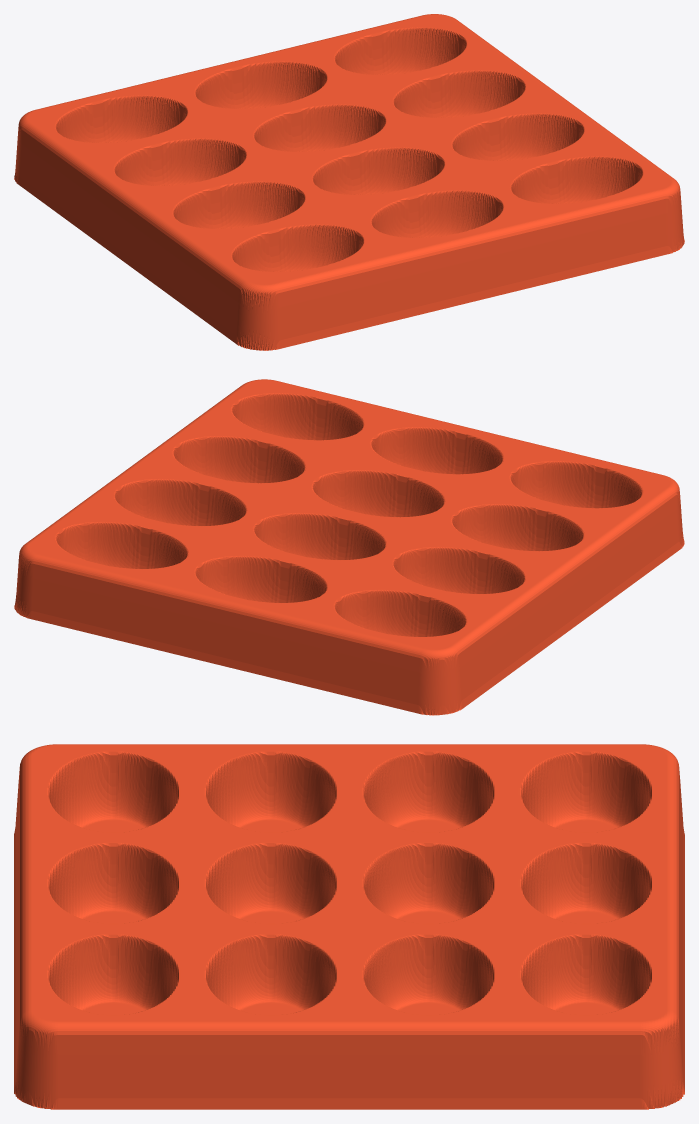
The model's file is mold.glb.
3 renders of one model, top to bottom at view 1: azimuth 30°, elevation 25°; view 2: azimuth 150°, elevation 25°; view 3: azimuth 270°, elevation 25°, orthographic. The views are drawn at different scales.
Parts seen in each view (by area): view 1: geometry_0; view 2: geometry_0; view 3: geometry_0.
Part boxes in pixels (bbox=[...]): geometry_0: bbox=[14, 14, 684, 350]; geometry_0: bbox=[14, 379, 684, 715]; geometry_0: bbox=[14, 744, 684, 1109].
Size of the model in its own units: 0.141 by 0.0182 by 0.1373.
